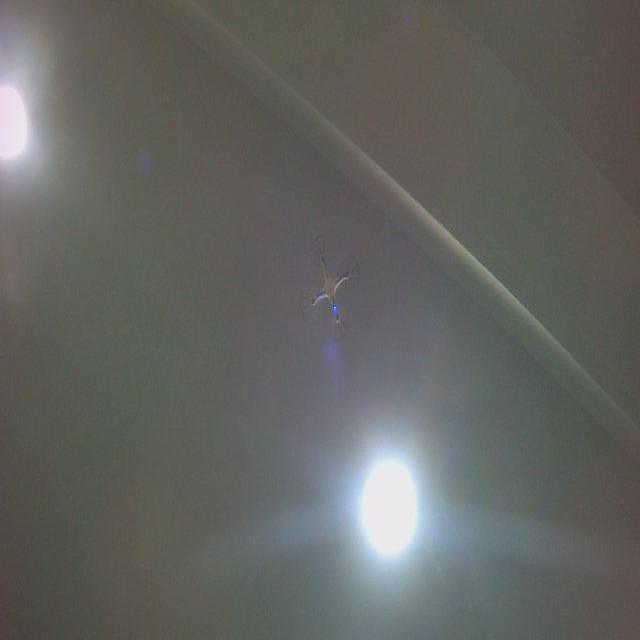drone: (297, 230, 364, 345)
